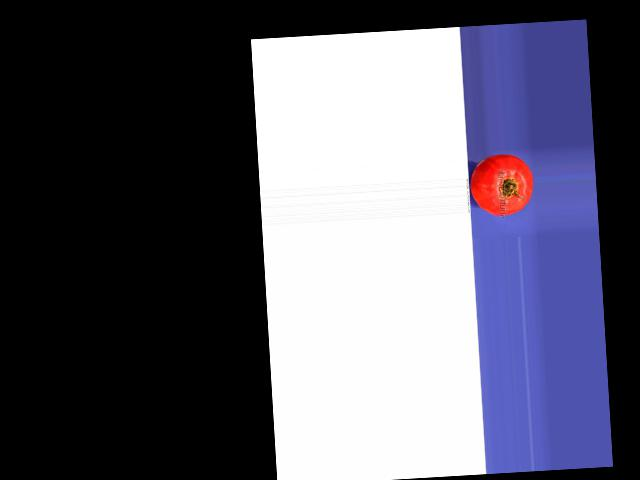tomato: (469, 152, 534, 217)
